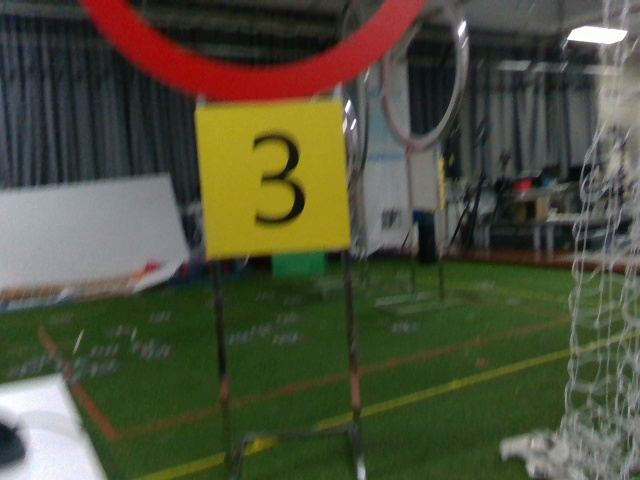target: (202, 107, 341, 250)
